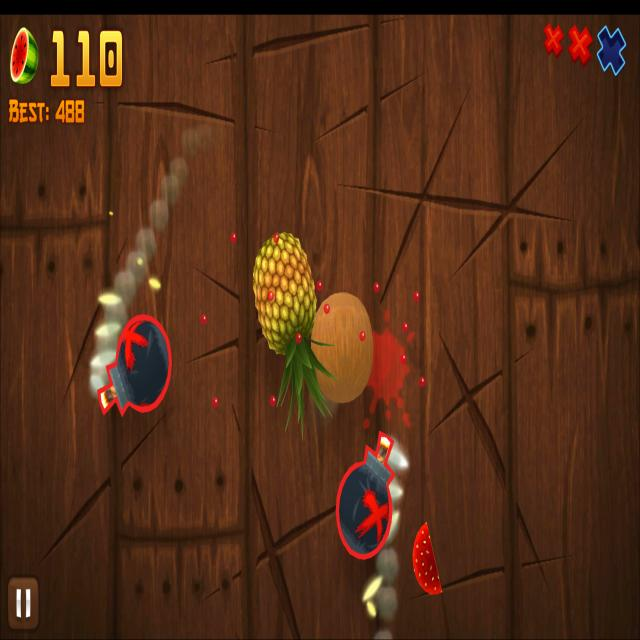bomb: (98, 314, 172, 415), (336, 432, 392, 559)
fruit: (252, 233, 316, 353), (311, 293, 372, 402)
